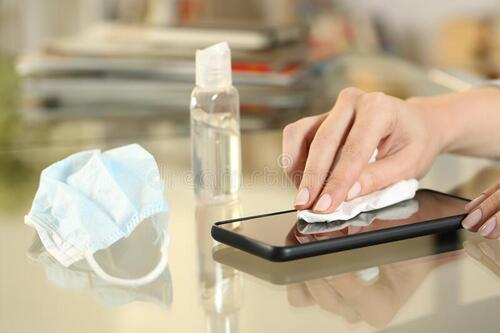sanitizer: (191, 40, 242, 207)
